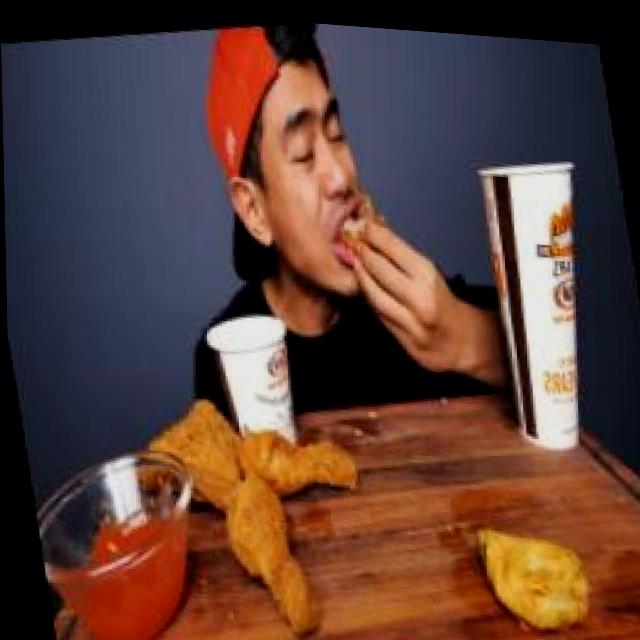AW cola: (464, 120, 628, 469)
crispy corn: (185, 295, 303, 462)
fried chicken: (138, 361, 381, 640)
perkedel: (463, 485, 609, 640)
